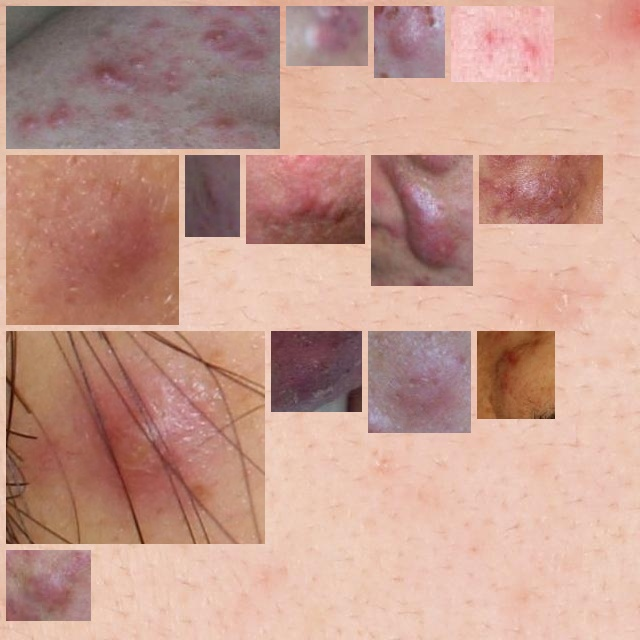nodule: (14, 339, 257, 536), (14, 14, 272, 141), (14, 163, 171, 317), (379, 163, 465, 278), (254, 163, 357, 236), (376, 339, 463, 425), (487, 163, 595, 216), (459, 14, 546, 74), (279, 339, 354, 404), (485, 339, 547, 411), (14, 558, 83, 613), (382, 14, 437, 70), (294, 14, 360, 58), (193, 163, 232, 229)
